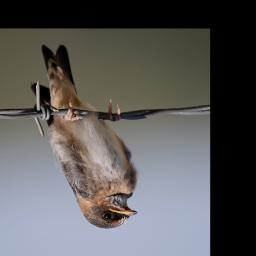Swallow: (30, 44, 140, 231)
